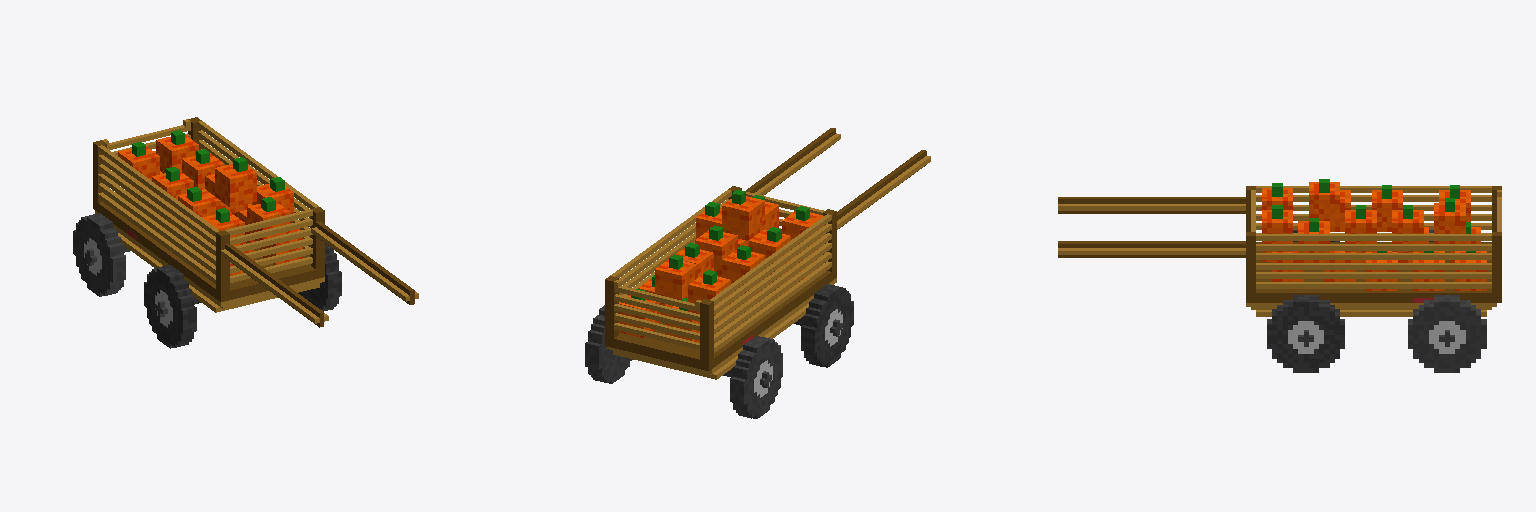
The picture shows the model from 3 angles: view 1: azimuth 30°, elevation 25°; view 2: azimuth 150°, elevation 25°; view 3: azimuth 270°, elevation 25°; orthographic projection.
Visible parts, largest first — view 1: object 1; view 2: object 1; view 3: object 1.
Boxes of the visible parts, <box> form: object 1: <box>73,117,418,348</box>; object 1: <box>585,128,930,418</box>; object 1: <box>1058,179,1501,372</box>.
Size of the model in its own units: 3.7 by 3.3 by 8.5.
1 materials, 1 textured.